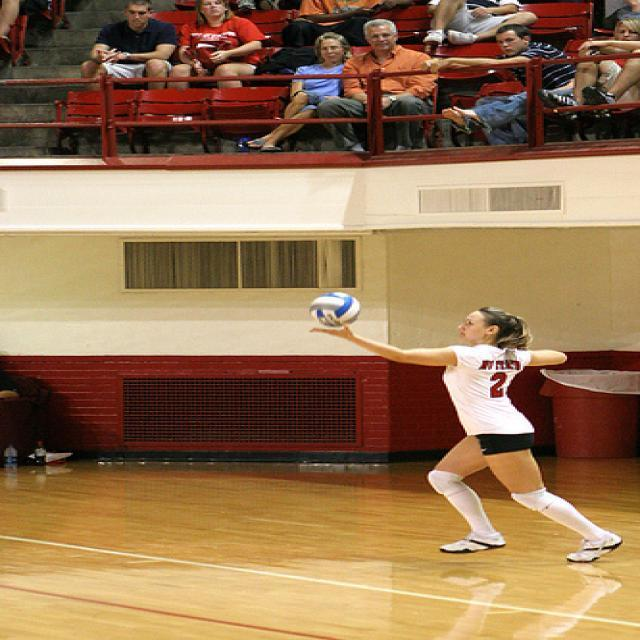volleyball: (310, 292, 360, 326)
